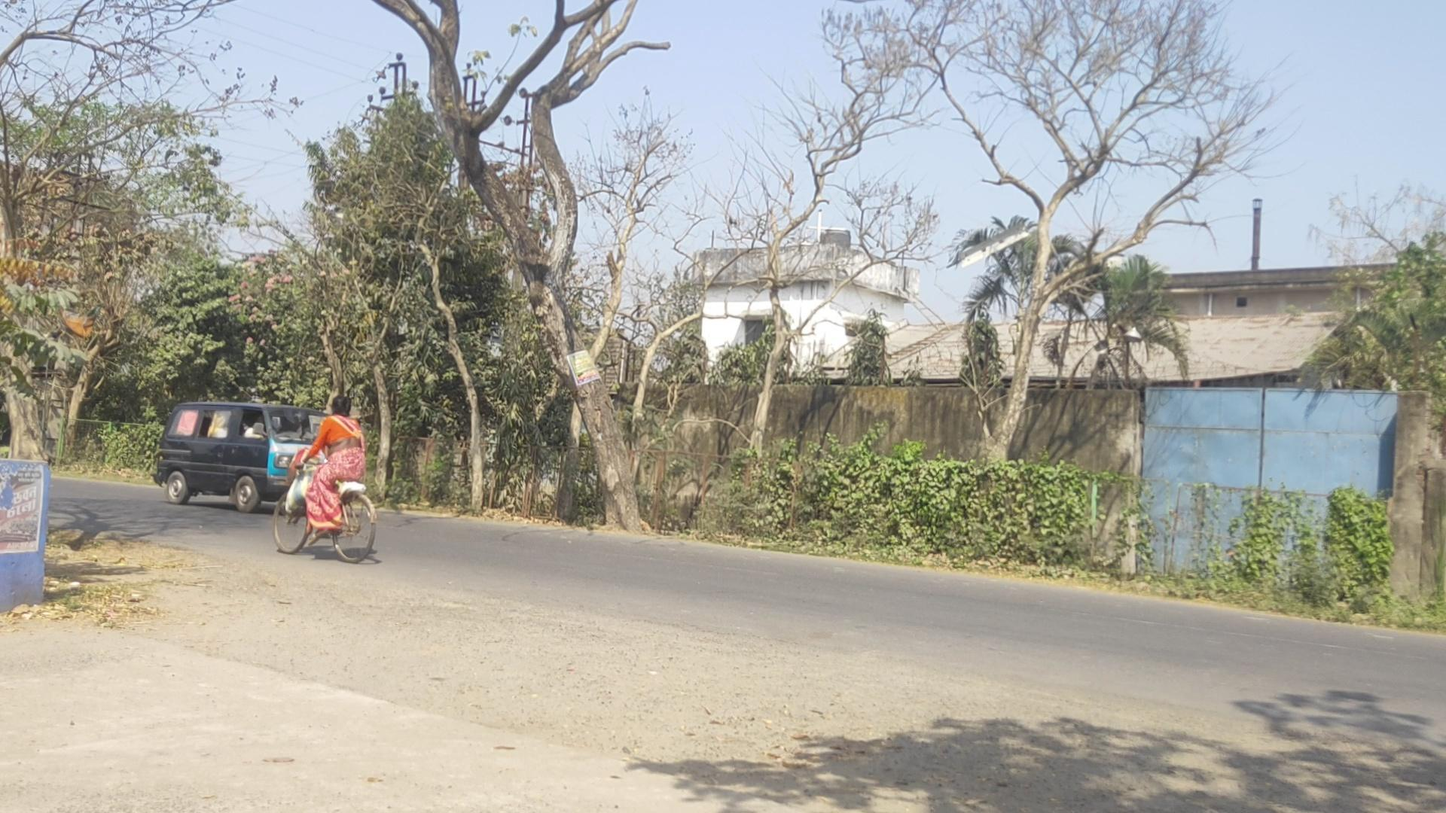bike: (272, 393, 378, 564)
van: (153, 401, 346, 515)
